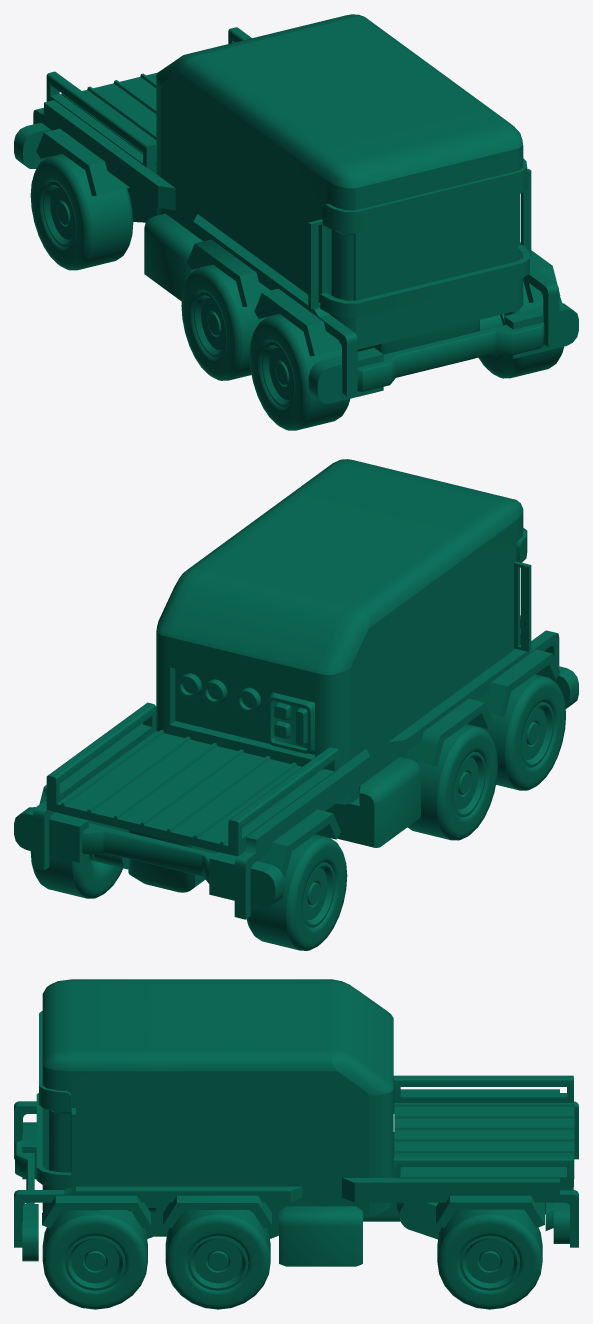
File: PowerCart.fbx
The picture shows the model from 3 angles, top to bottom: view 1: azimuth 30°, elevation 25°; view 2: azimuth 150°, elevation 25°; view 3: azimuth 270°, elevation 25°; orthographic projection. The views are drawn at different scales.
Parts seen in each view (by area): view 1: PowerCart; view 2: PowerCart; view 3: PowerCart.
Part boxes in pixels (x1,y1,x2,y2): PowerCart: (14,14,578,430); PowerCart: (14,459,578,950); PowerCart: (14,979,578,1309).
Size of the model in its own units: 312 by 299 by 644.
